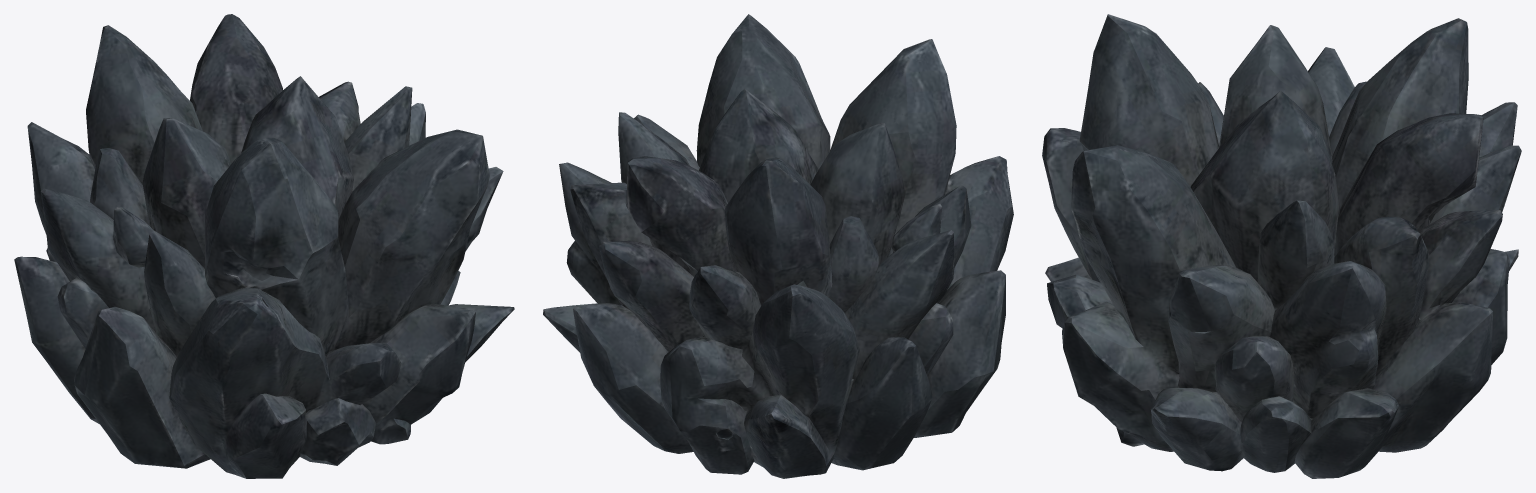
3 renders of one model, left to right at view 1: azimuth 30°, elevation 25°; view 2: azimuth 150°, elevation 25°; view 3: azimuth 270°, elevation 25°, orthographic. The views are drawn at different scales.
Visible parts, largest first — view 1: world; view 2: world; view 3: world.
Boxes of the visible parts, bbox=[...] form: world: bbox=[14, 14, 514, 478]; world: bbox=[543, 14, 1013, 478]; world: bbox=[1042, 14, 1521, 478].
Bounding box in the file's own units: 0.18 × 0.1526 × 0.1796.
Materials: 1 (1 with a texture image).
